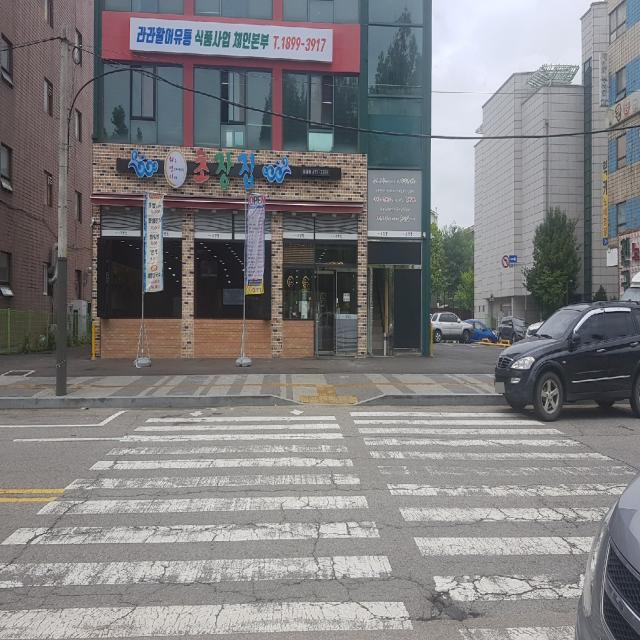횡단보도: (0, 410, 640, 639)
